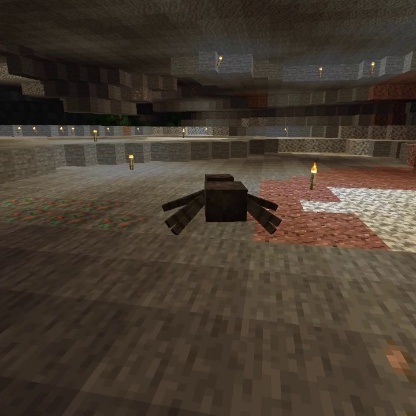spider: (157, 169, 284, 239)
